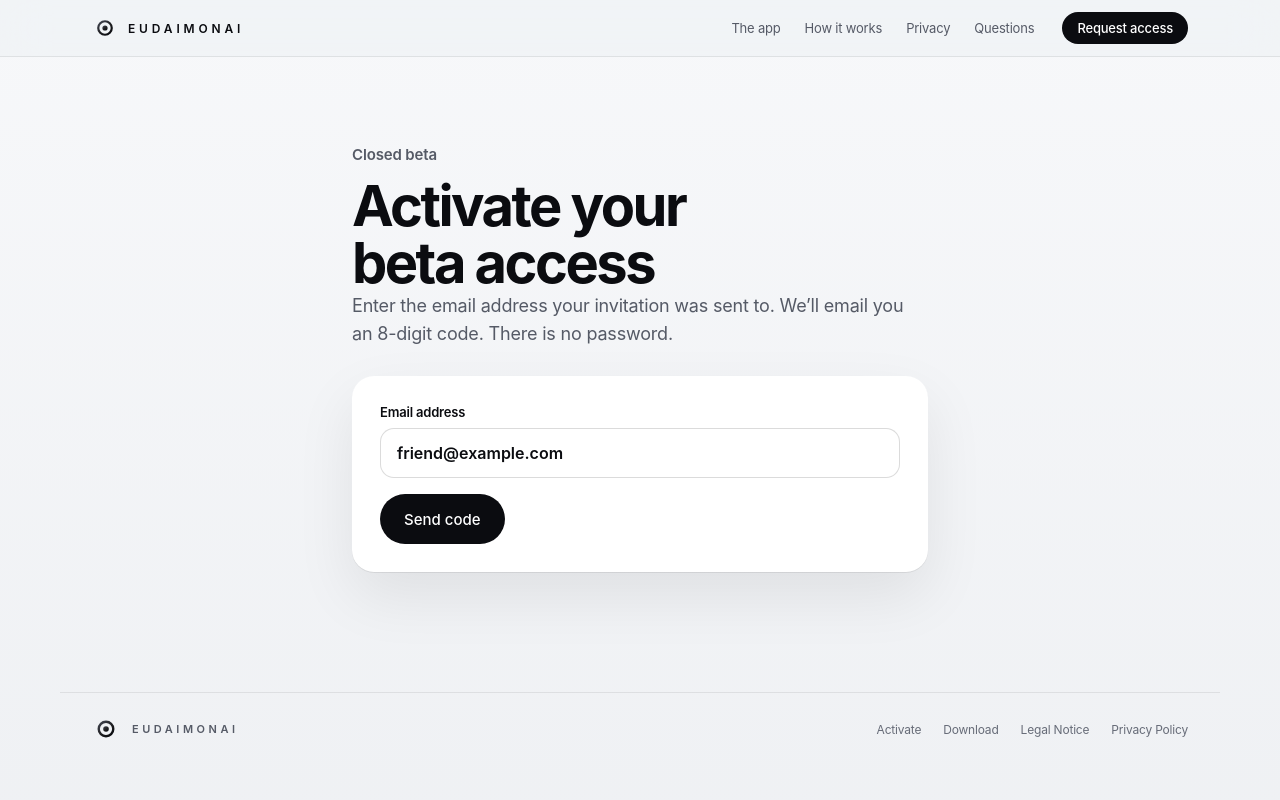
ActivatePage › keeps the code step on a wrong or expired code
Expected: the field showing "friend@example.com" is shown, x1=380 y1=428 x2=900 y2=478
Click the button "Send code" at (442, 519), box x1=380 y1=494 x2=505 y2=544
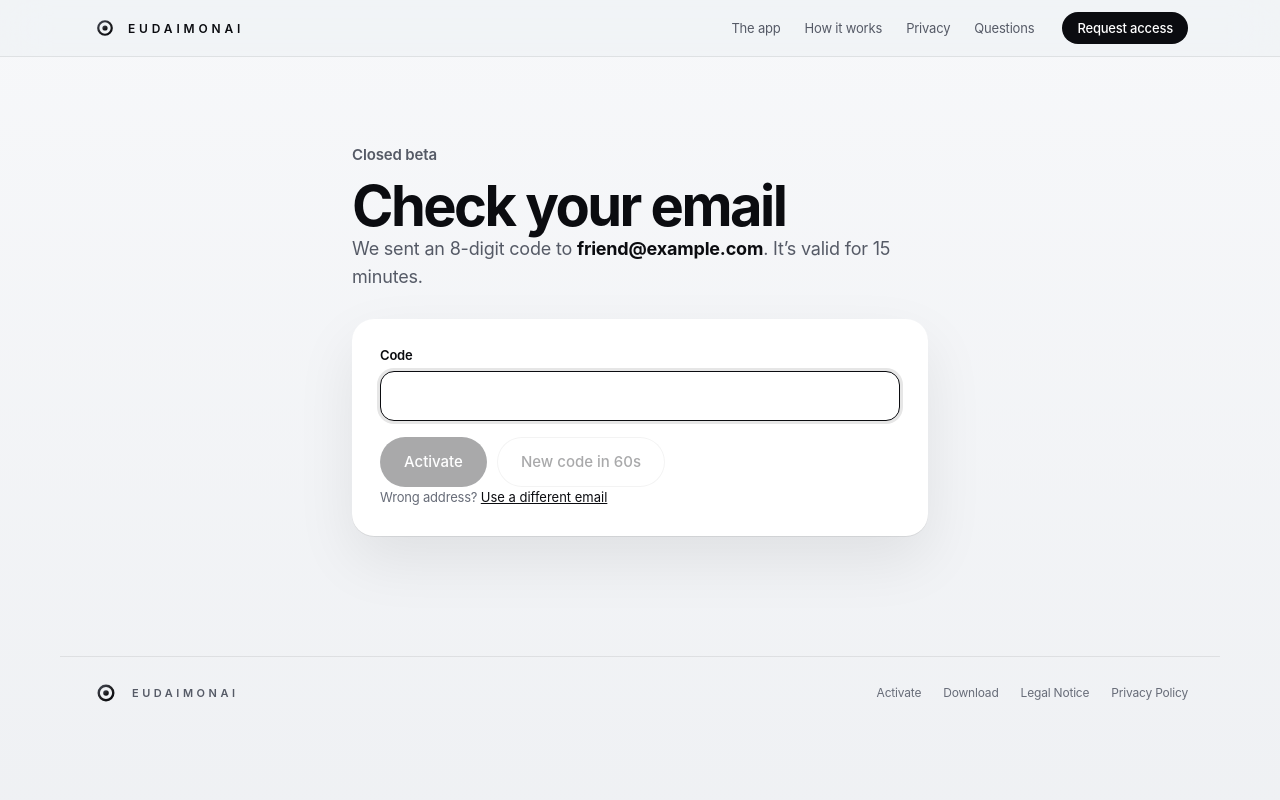
Now the heading "Check your email" is shown, box x1=352 y1=172 x2=785 y2=240
Type "1234 5678" into the field labelled "Code" at (640, 396), box x1=380 y1=371 x2=900 y2=421
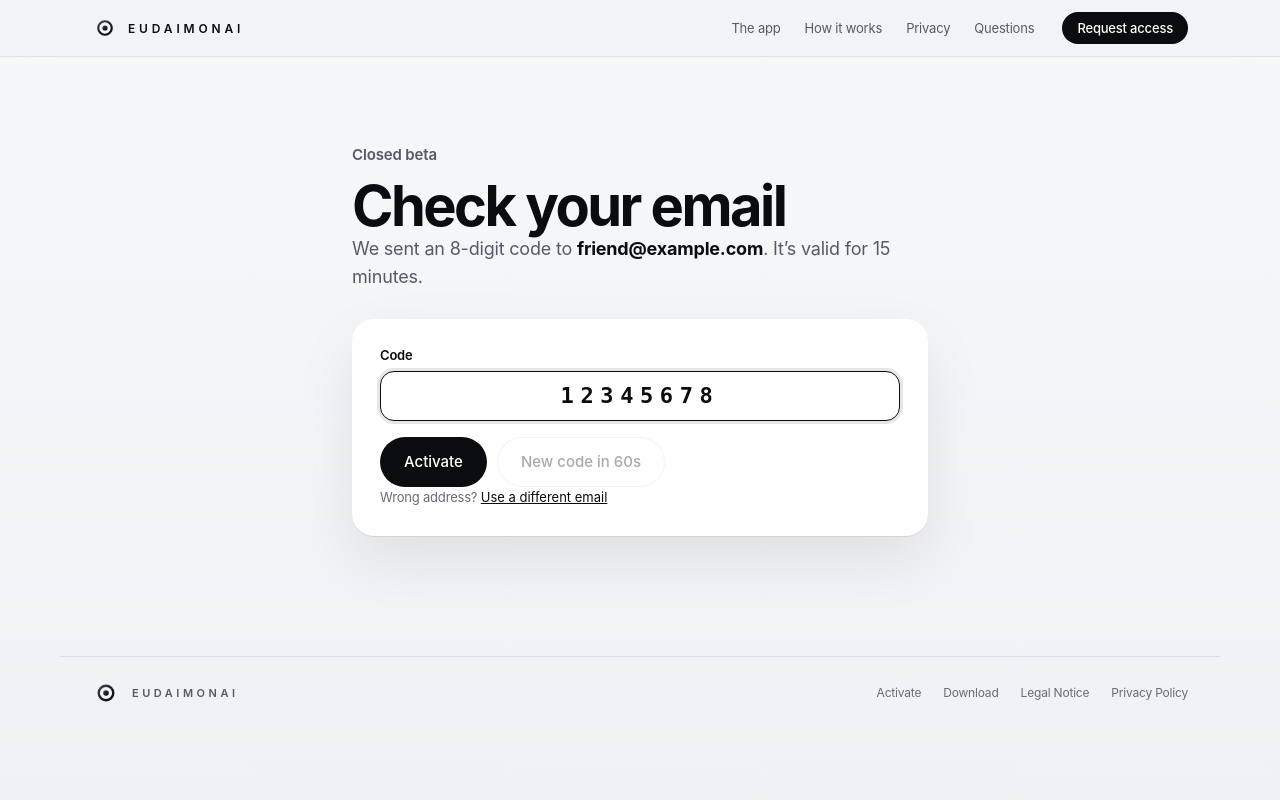
Click the button "Activate" at (433, 462), box x1=380 y1=437 x2=487 y2=487
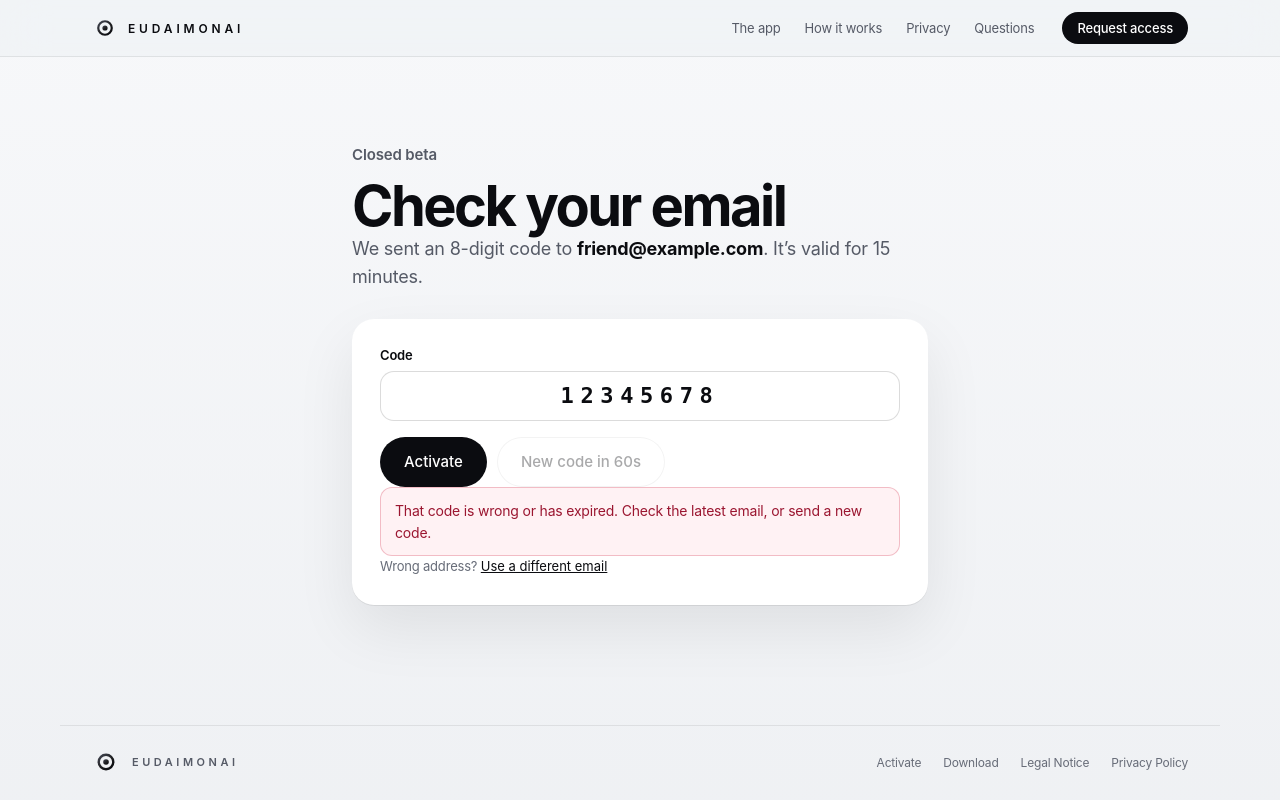
Now the button "New code in 60s" is disabled, box x1=497 y1=437 x2=665 y2=487
Now the message shows "wrong or has expired", box x1=395 y1=502 x2=862 y2=541
